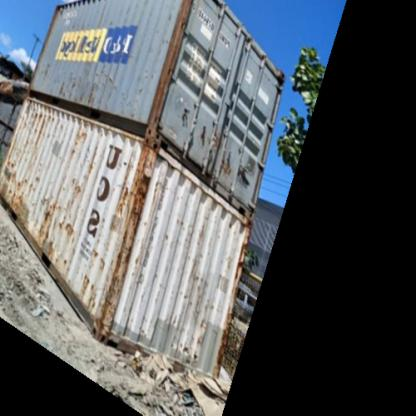Damage: (104, 256, 160, 338), (113, 155, 153, 245), (179, 272, 216, 362), (6, 160, 37, 211), (56, 76, 99, 108), (73, 270, 100, 314), (22, 109, 53, 144), (35, 199, 53, 248), (55, 215, 83, 242), (194, 210, 212, 246), (68, 126, 89, 155), (63, 175, 82, 204), (133, 76, 149, 100), (104, 69, 118, 96), (87, 145, 98, 176), (173, 217, 186, 231), (161, 232, 171, 248), (42, 62, 50, 80)
